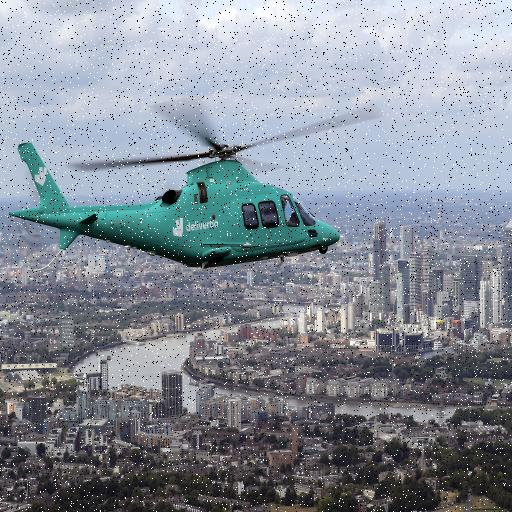helicopter: (9, 86, 385, 276)
